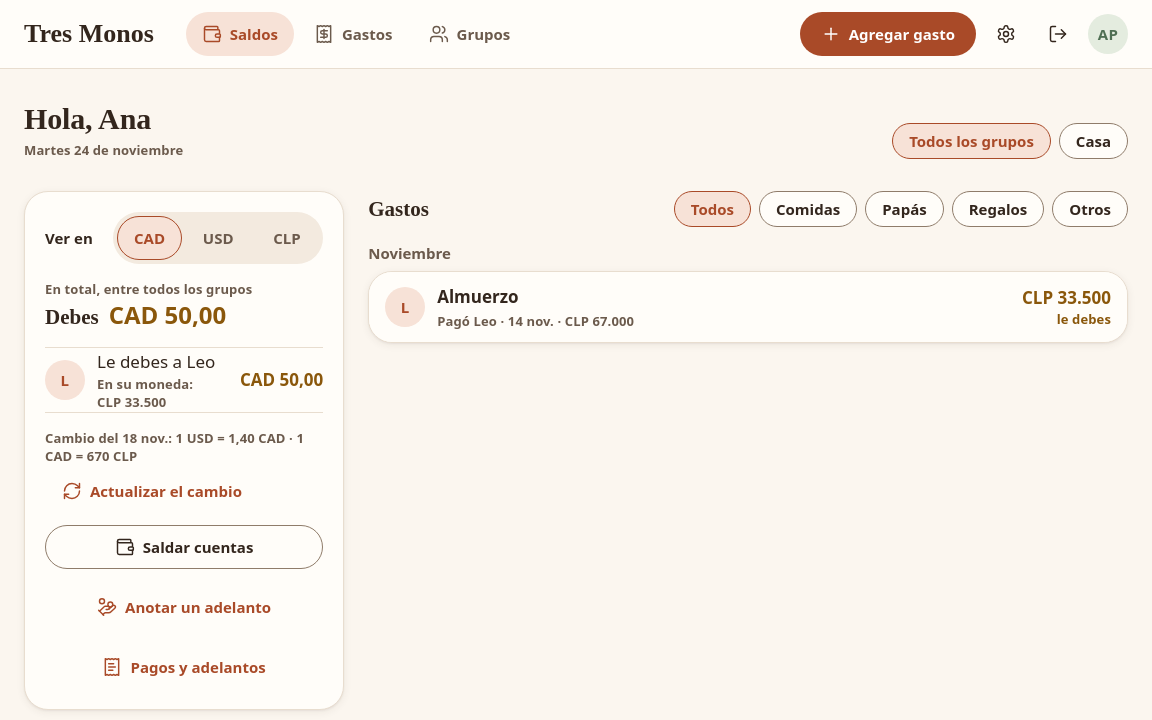
Scenario: DashboardScreen › balances › shows what I owe in my currency and follows the chosen one
This screenshot has width=1152, height=720.
Click the button "CLP": x=287, y=238 [254, 216, 319, 260]
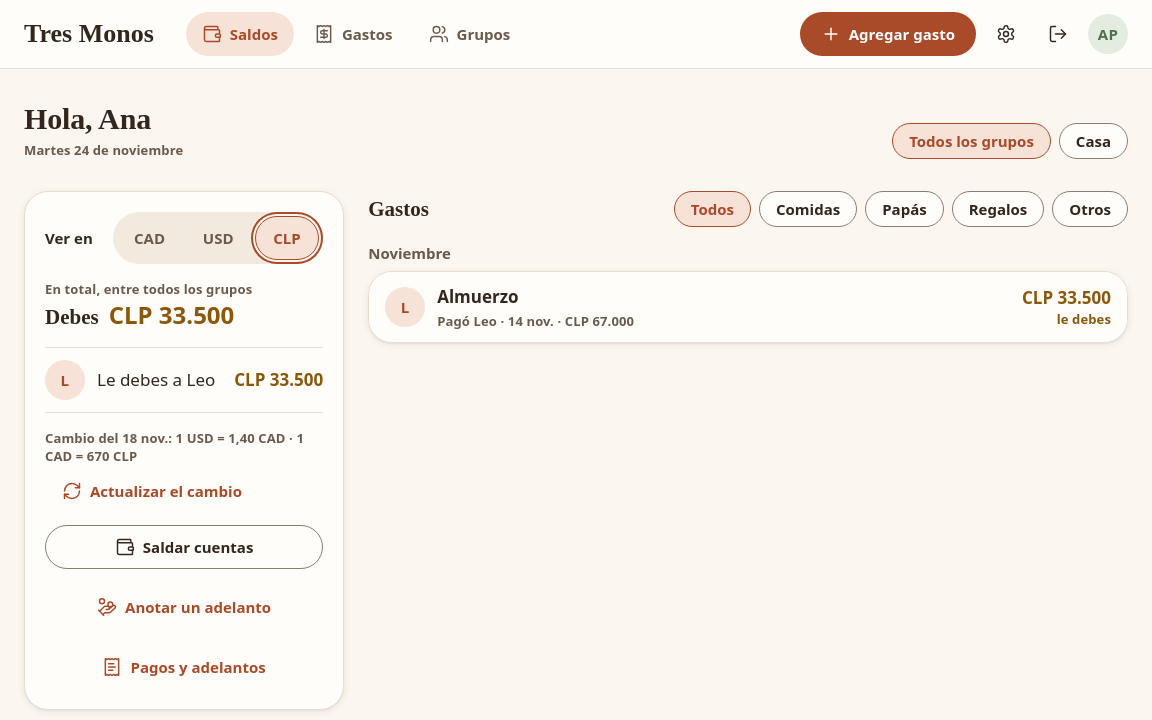
Expected: the text "CLP 33.500" below "En total, entre todos los grupos" is shown, [109, 298, 234, 331]
